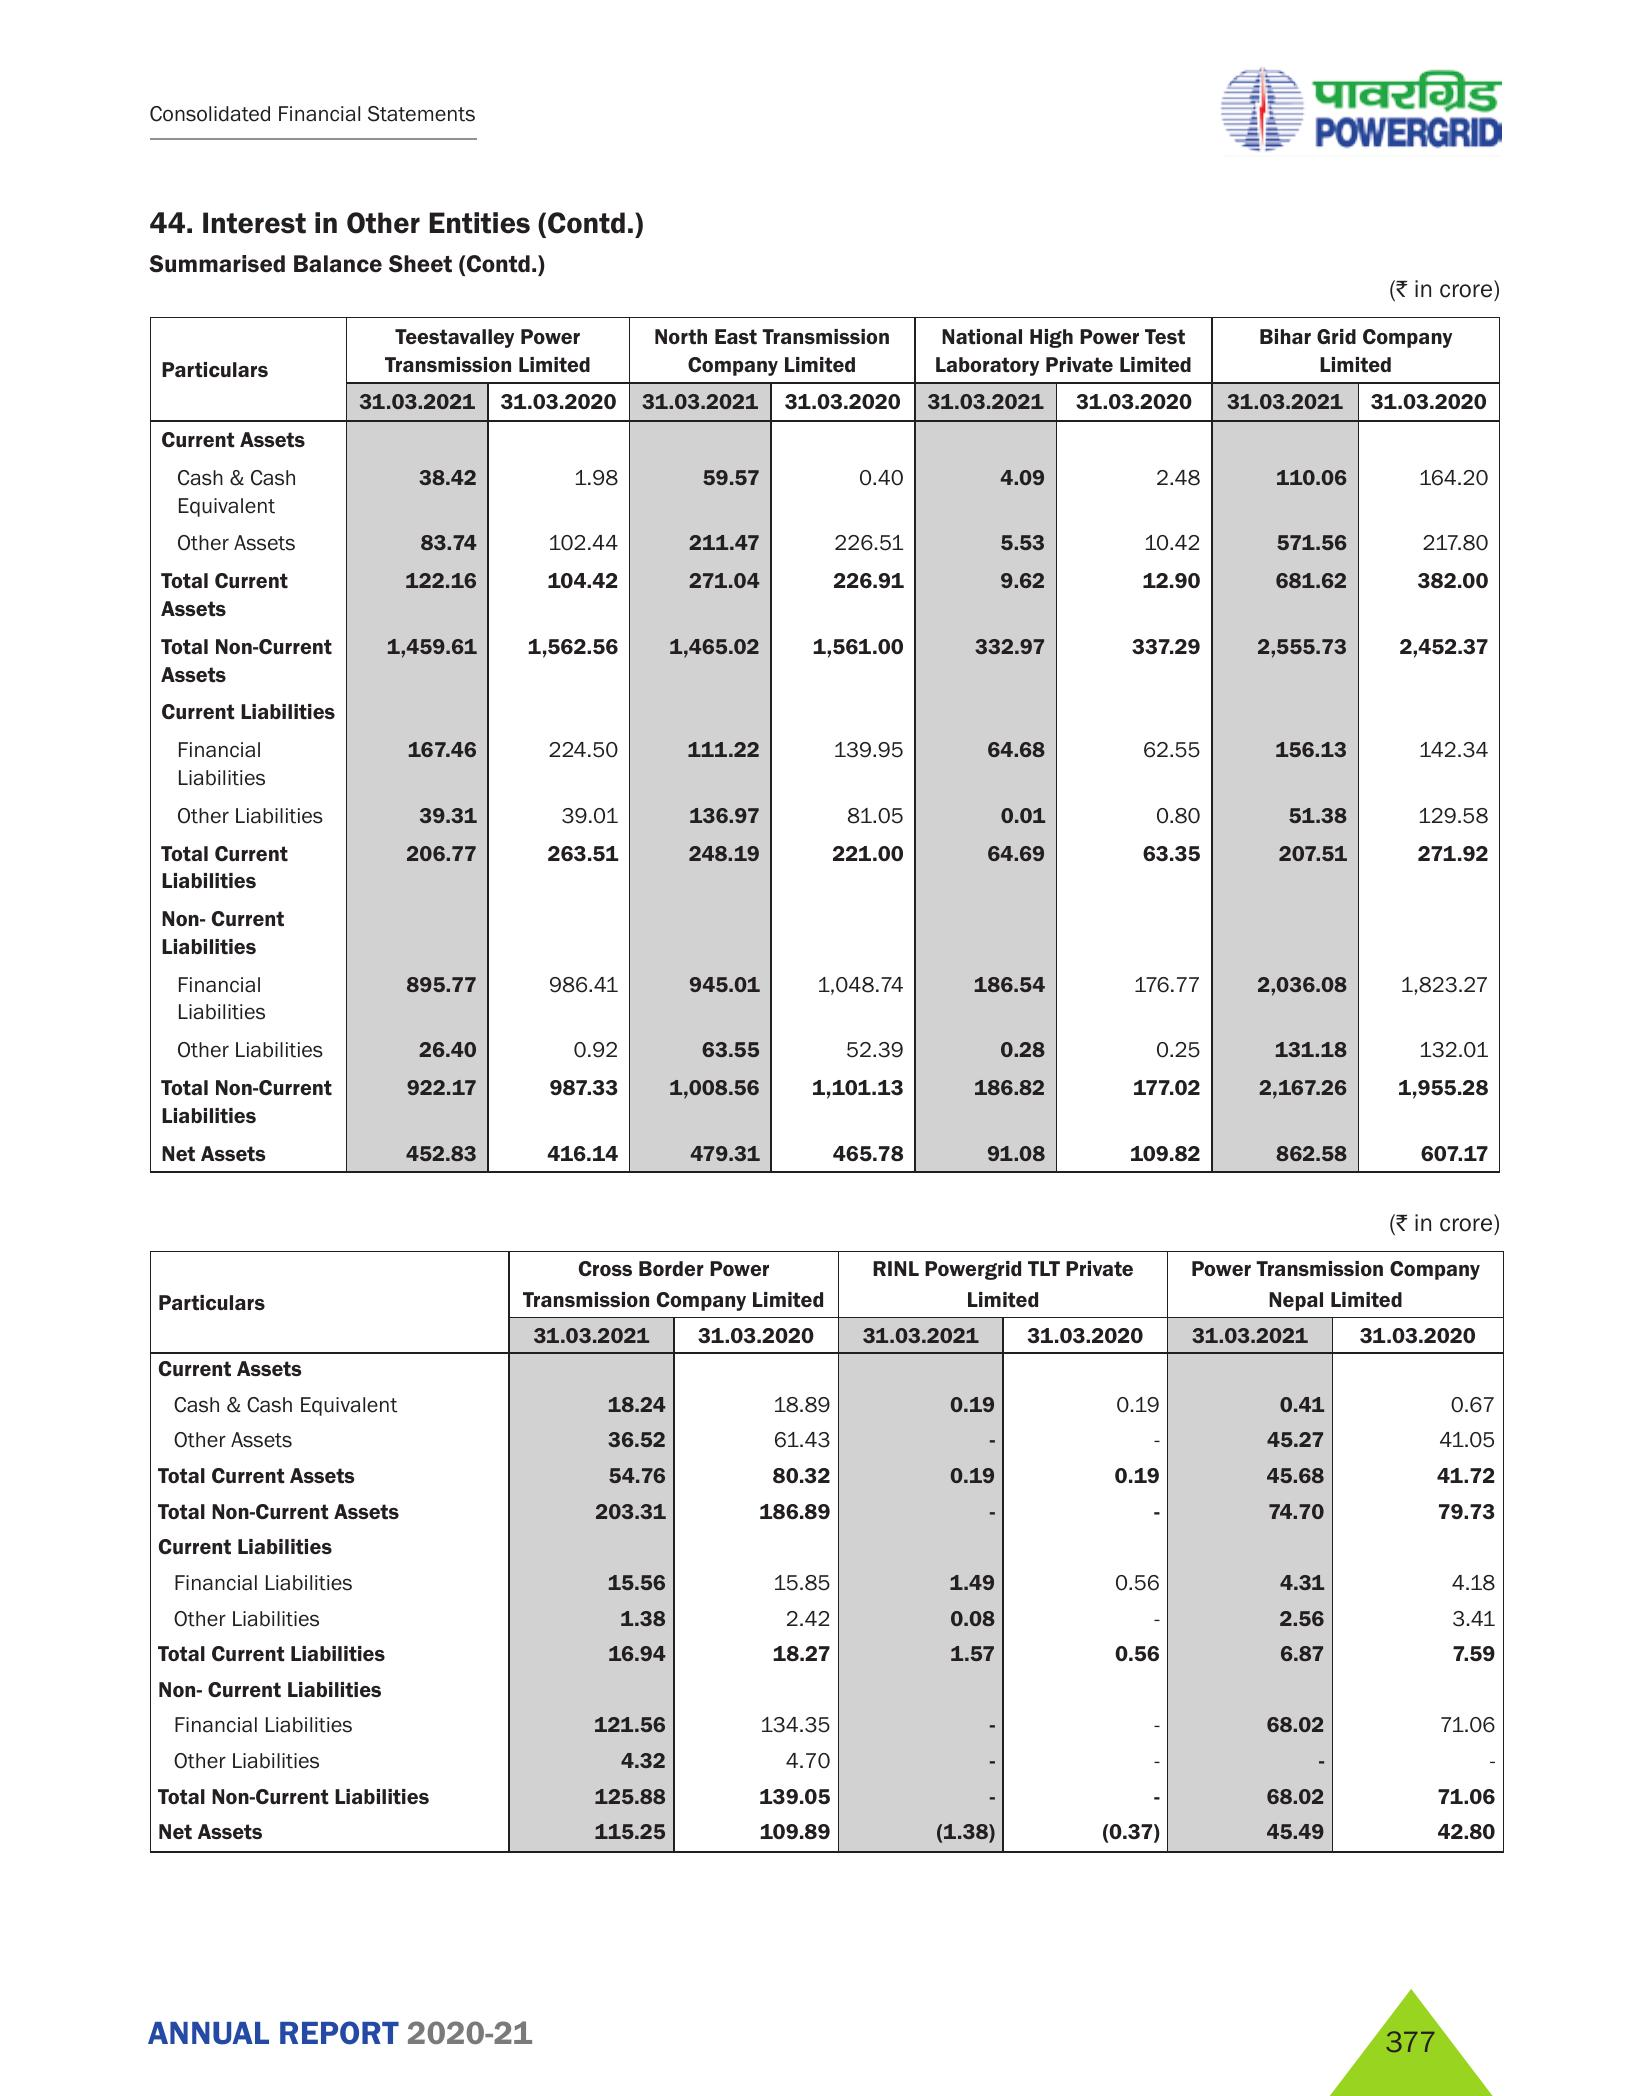Footer: (0, 1979, 1650, 2096)
Header: (0, 0, 1650, 172)
Table: (139, 315, 1507, 1186), (139, 1254, 1511, 1860)
